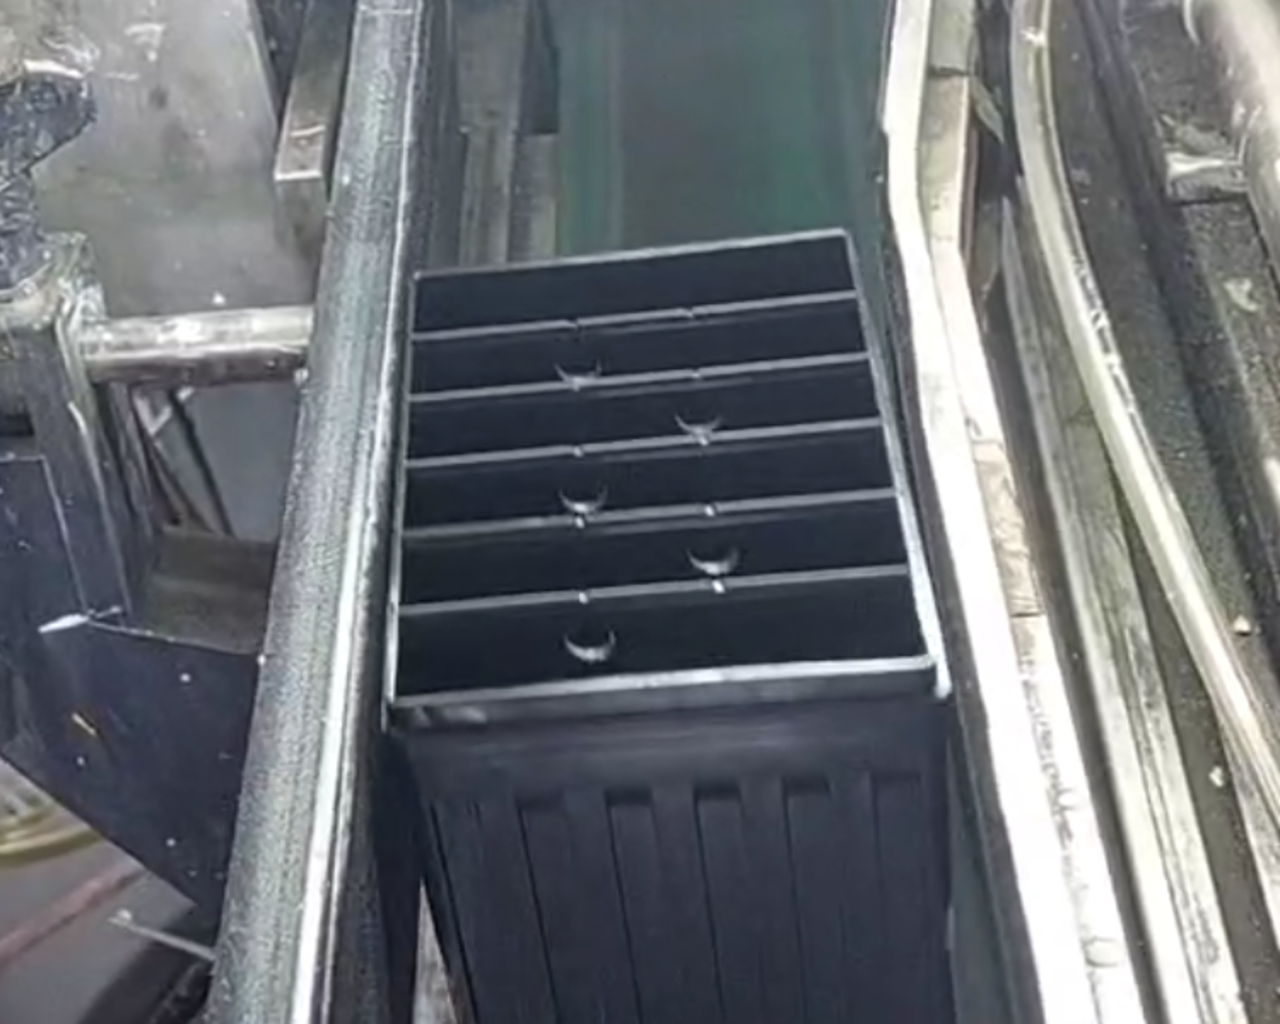box: (366, 217, 967, 753)
round: (550, 611, 632, 671), (675, 526, 750, 582), (549, 469, 619, 519), (545, 336, 610, 388), (666, 394, 732, 438)
